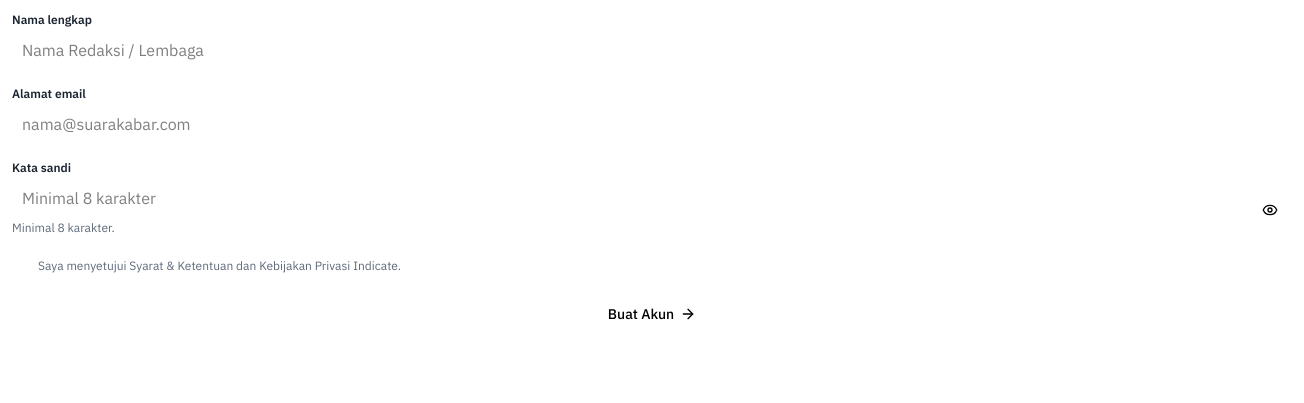
Test case: Formulir daftar akun Neon Auth › menolak isian yang belum lengkap
The image size is (1304, 403).
Type "Redaksi Uji" into the field labelled "Nama lengkap" at {"x": 652, "y": 50}, box [12,34,1292,66]
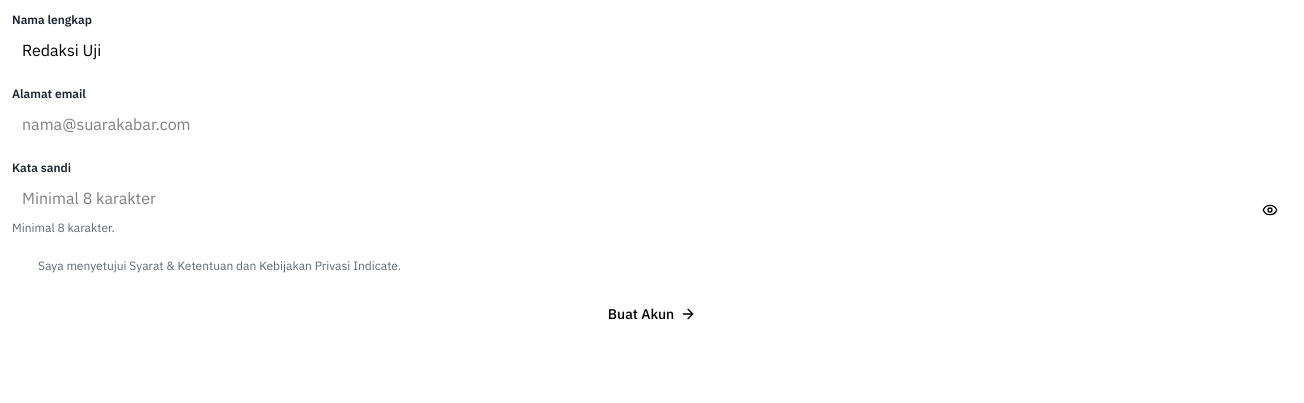
Submit the form labelled "Nama lengkap"
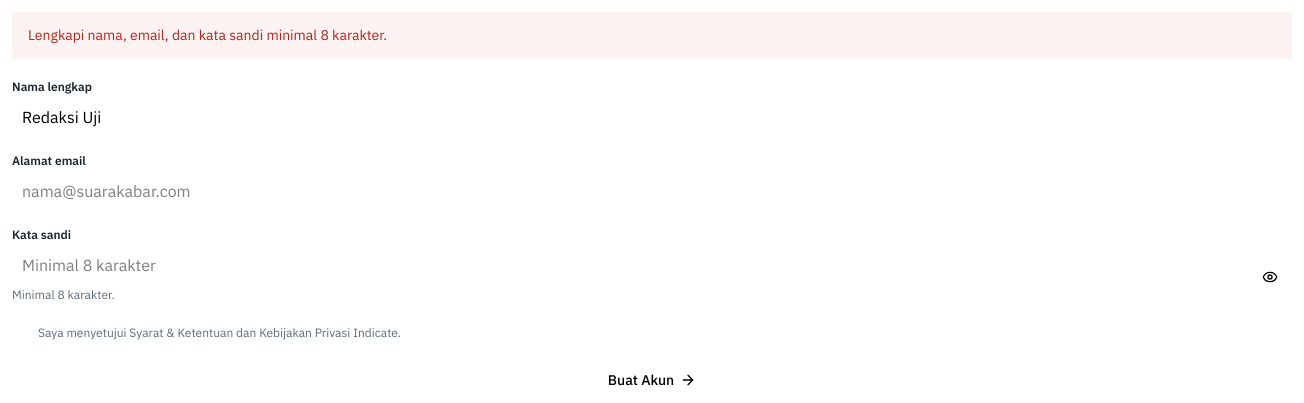
Check: the text "Lengkapi nama, email, dan kata sandi minimal 8 karakter." is shown, box [12,12,1292,59]
